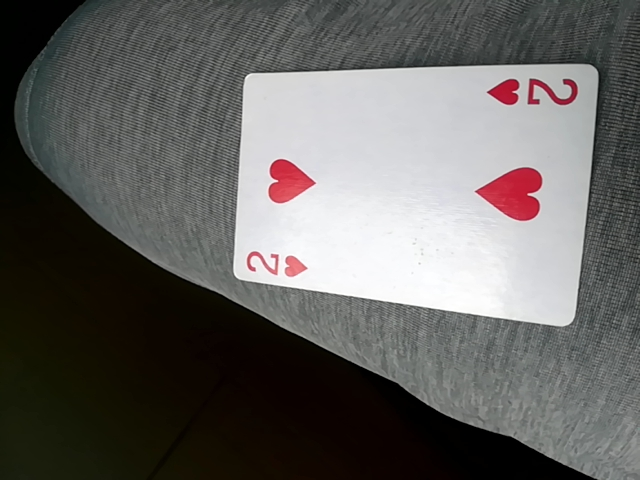hx 2: (234, 58, 596, 327)
